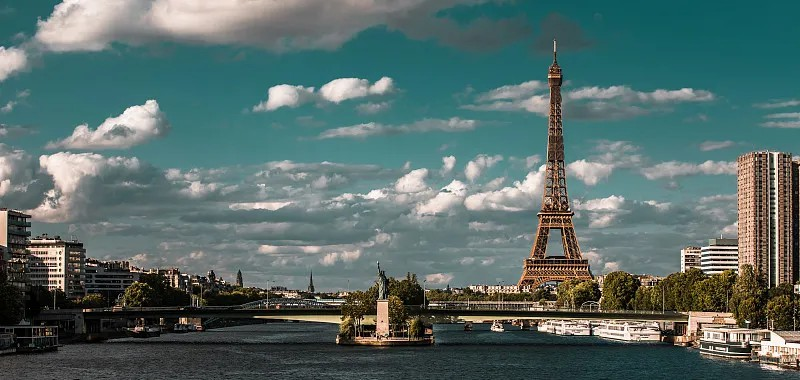Eiffel: (516, 38, 596, 294)
SL: (374, 260, 390, 337)
